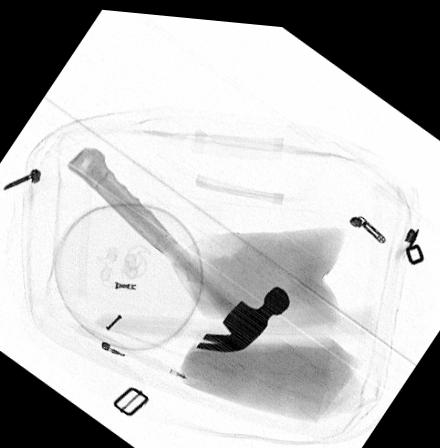Hammer: (65, 144, 290, 346)
